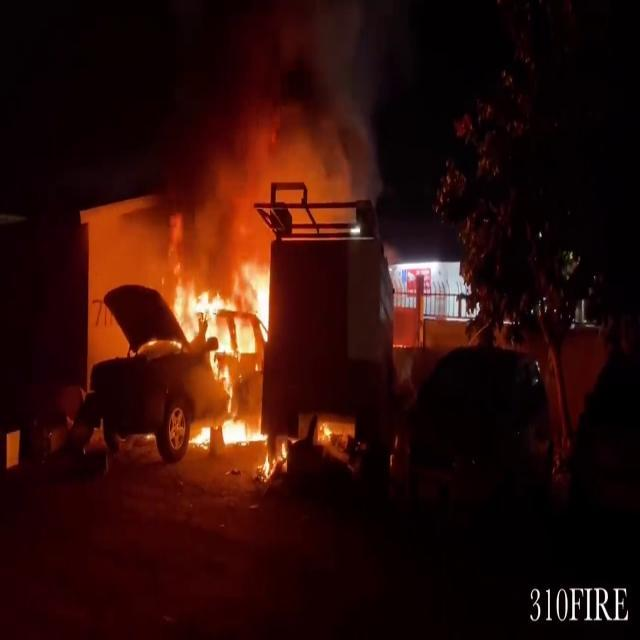Fire: (170, 251, 280, 448)
Smoke: (166, 1, 384, 208)
